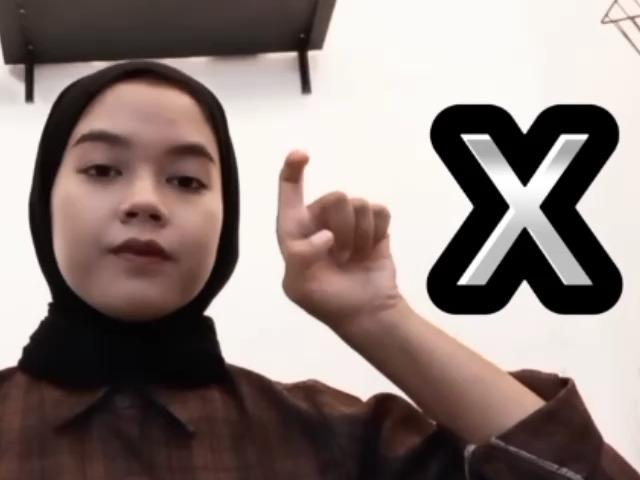X: (269, 138, 409, 322)
